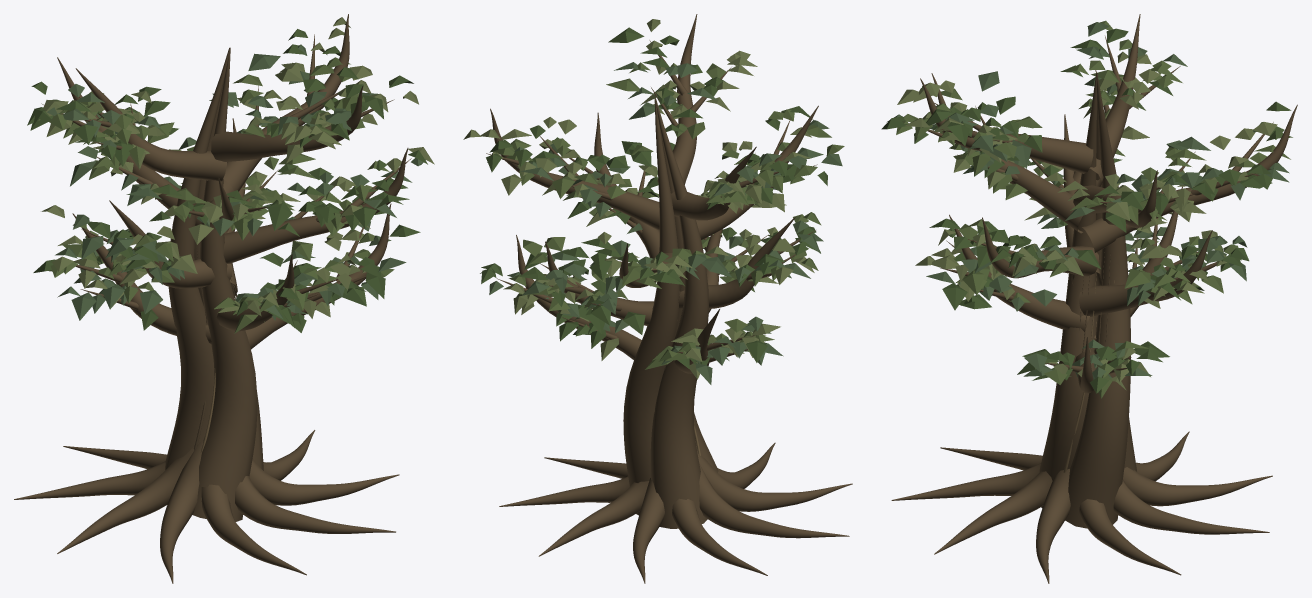
The model's file is root_tree.glb.
3 renders of one model, left to right at view 1: azimuth 30°, elevation 25°; view 2: azimuth 150°, elevation 25°; view 3: azimuth 270°, elevation 25°, orthographic. The views are drawn at different scales.
Parts seen in each view (by area): view 1: Bark ridge; view 2: Bark ridge; view 3: Bark ridge.
Boxes of the visible parts, <box> form: Bark ridge: <box>14,14,434,583</box>; Bark ridge: <box>463,14,852,583</box>; Bark ridge: <box>881,14,1297,583</box>.
Size of the model in its own units: 3.69 by 4.32 by 3.51.
